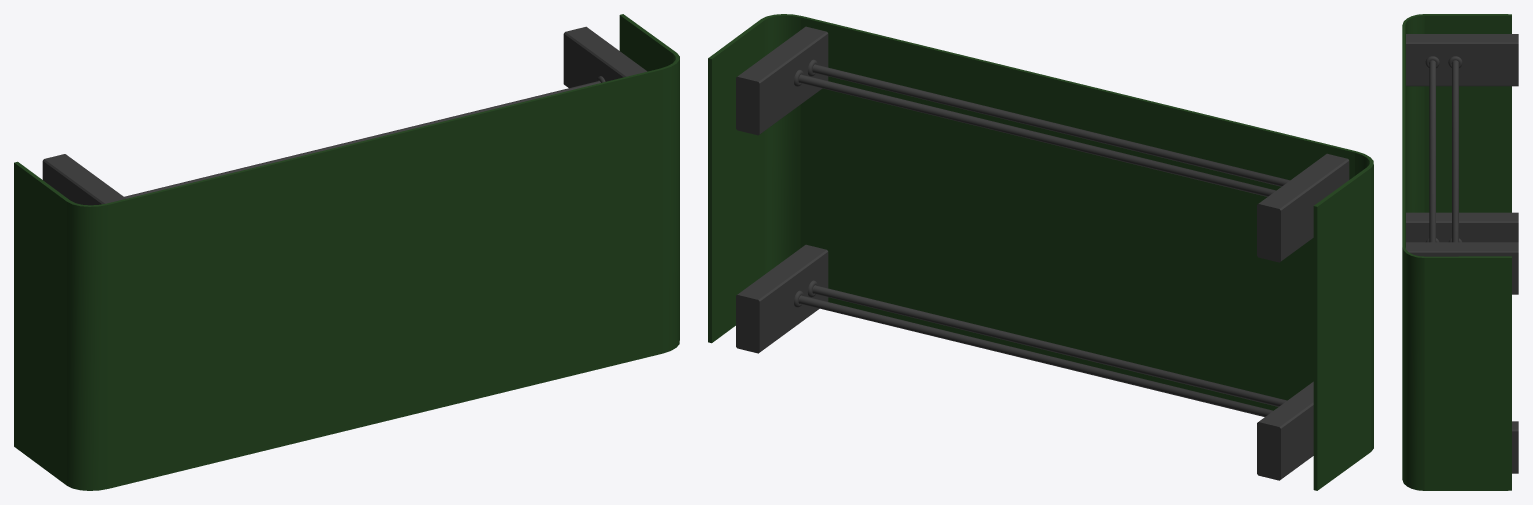
The model's file is Coffeetb.obj.
3 renders of one model, left to right at view 1: azimuth 30°, elevation 25°; view 2: azimuth 150°, elevation 25°; view 3: azimuth 270°, elevation 25°, orthographic. The views are drawn at different scales.
Parts seen in each view (by area): view 1: Table_pivot; view 2: Table_pivot; view 3: Table_pivot.
Boxes of the visible parts, x1=… form: Table_pivot: x1=14, y1=14, x2=679, y2=490; Table_pivot: x1=708, y1=14, x2=1373, y2=490; Table_pivot: x1=1402, y1=14, x2=1518, y2=490.
Bounding box in the file's own units: 61.24 × 27.25 × 12.3.
